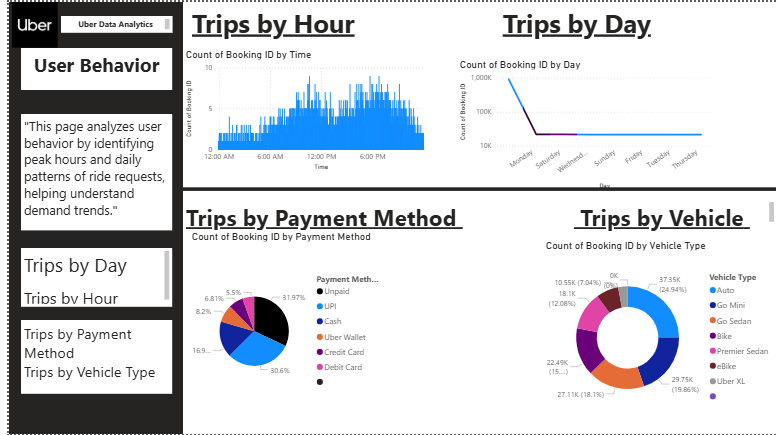

What the dashboard file says about the page in this screenshot:
{"tool":"powerbi","page":{"name":"Page 2","canvas":[1280,720],"ordinal":1},"visuals":[{"type":"textbox","box":[0,0,290,720],"z":0},{"type":"textbox","box":[20,76,252,70],"z":1000},{"type":"image","box":[0,0,86,76],"z":2000},{"type":"textbox","box":[86,24,186,28],"z":3000},{"type":"textbox","box":[20,186,252,194],"z":4000},{"type":"textbox","box":[20,410,252,98],"z":5000},{"type":"textbox","box":[20,530,251.7,123.3],"z":6000},{"type":"textbox","box":[300,0,980,76],"z":7000},{"type":"columnChart","fields":{"Category":["مشروع تخرج اوبر.Time"],"Y":["CountNonNull(مشروع تخرج اوبر.Booking ID)"]},"box":[290,76,430,208],"z":8000},{"type":"lineChart","fields":{"Y":["Count(مشروع تخرج اوبر.Booking ID)"],"Category":["مشروع تخرج اوبر.DayOfWeekNumber","مشروع تخرج اوبر.DayOfWeek"]},"box":[712.5,90.8,430,223.3],"z":9000},{"type":"shape","box":[290,112.5,990,437.5],"z":10000},{"type":"textbox","box":[290,328.3,990,66.7],"z":11000},{"type":"pieChart","fields":{"Category":["مشروع تخرج اوبر.Payment Method"],"Y":["Count(مشروع تخرج اوبر.Booking ID)"]},"box":[300,380,323.3,318.3],"z":12000},{"type":"donutChart","fields":{"Category":["مشروع تخرج اوبر.Vehicle Type"],"Y":["Count(مشروع تخرج اوبر.Booking ID)"]},"box":[890,395,390,310],"z":13000}]}

Visuals, with their boxes on the page's 1280x720 design canvas (x1, y1, x2, y2). These are canvas units, not pixel positions in the 776x435 screenshot, which may show the page scaled, cropped or inside an application window:
textbox: x1=0, y1=0, x2=290, y2=720
textbox: x1=20, y1=76, x2=272, y2=146
image: x1=0, y1=0, x2=86, y2=76
textbox: x1=86, y1=24, x2=272, y2=52
textbox: x1=20, y1=186, x2=272, y2=380
textbox: x1=20, y1=410, x2=272, y2=508
textbox: x1=20, y1=530, x2=272, y2=653
textbox: x1=300, y1=0, x2=1280, y2=76
columnChart - مشروع تخرج اوبر.Time x CountNonNull(مشروع تخرج اوبر.Booking ID): x1=290, y1=76, x2=720, y2=284
lineChart - Count(مشروع تخرج اوبر.Booking ID) x مشروع تخرج اوبر.DayOfWeekNumber: x1=712, y1=91, x2=1142, y2=314
shape: x1=290, y1=112, x2=1280, y2=550
textbox: x1=290, y1=328, x2=1280, y2=395
pieChart - مشروع تخرج اوبر.Payment Method x Count(مشروع تخرج اوبر.Booking ID): x1=300, y1=380, x2=623, y2=698
donutChart - مشروع تخرج اوبر.Vehicle Type x Count(مشروع تخرج اوبر.Booking ID): x1=890, y1=395, x2=1280, y2=705
